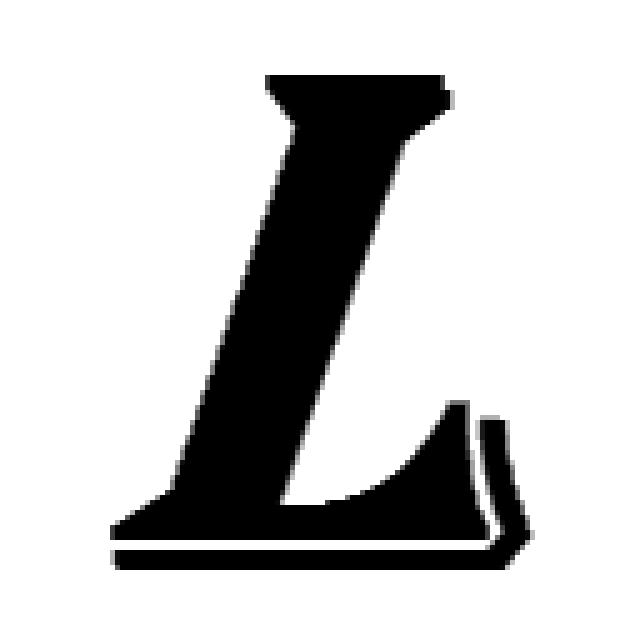L: (89, 77, 545, 573)
